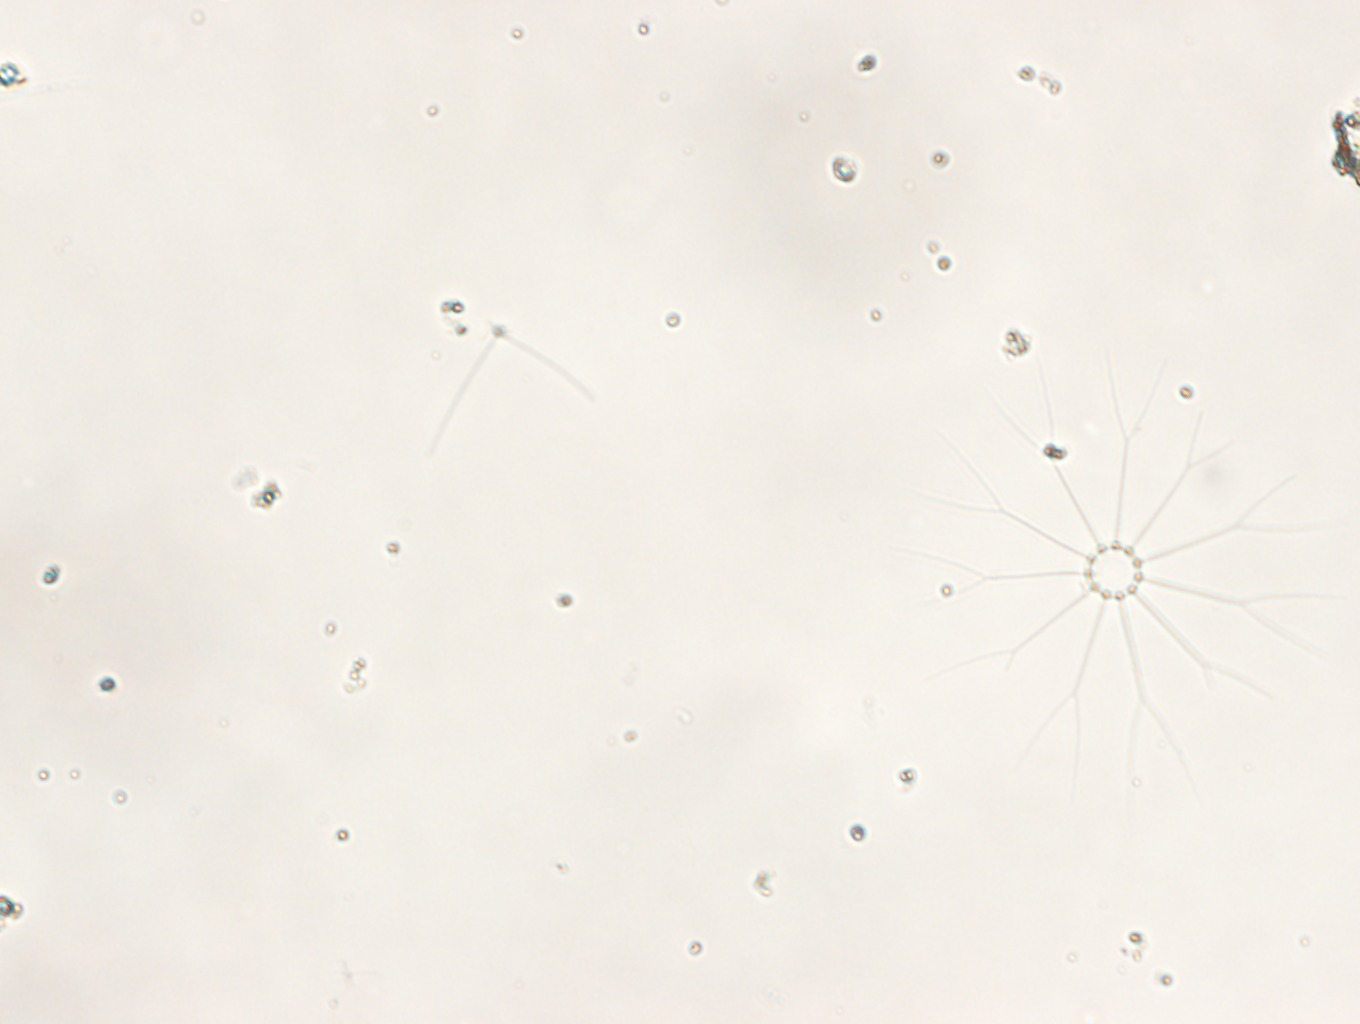bacteriastrum: (924, 365, 1335, 783)
